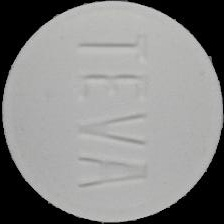50090-0132: (0, 0, 224, 224)
